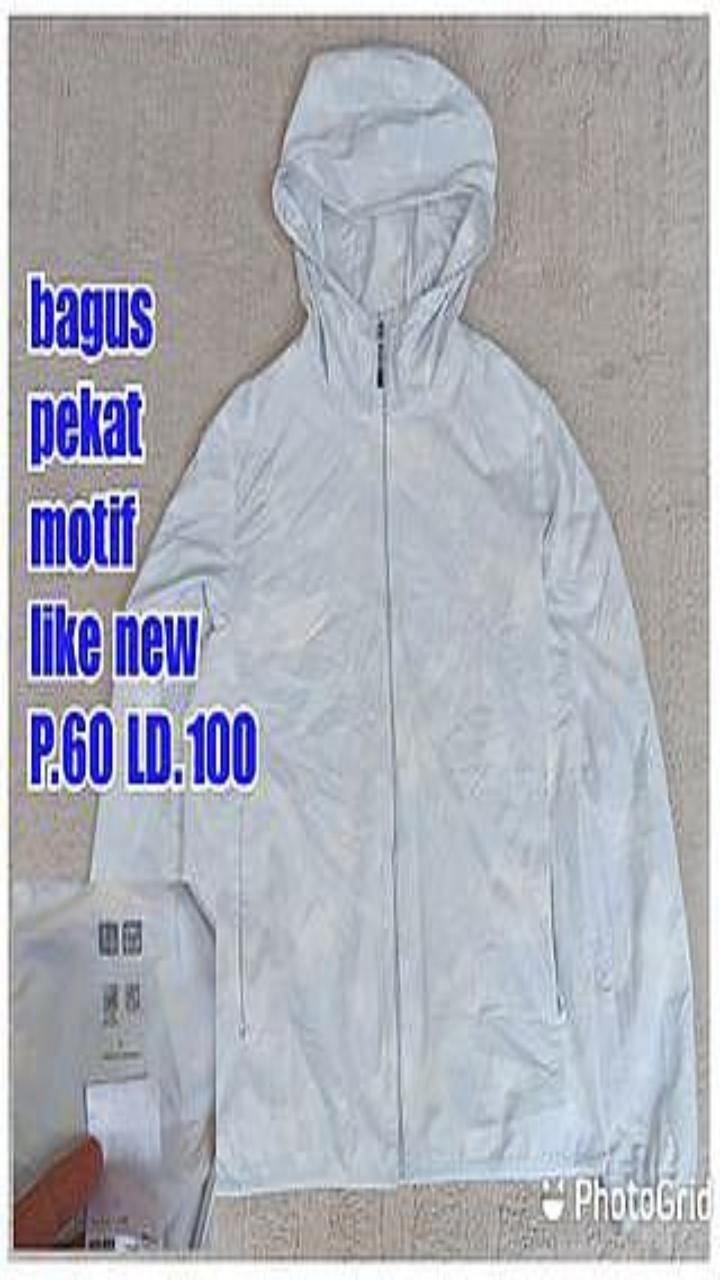Sports_Jacket: (94, 46, 695, 1193)
